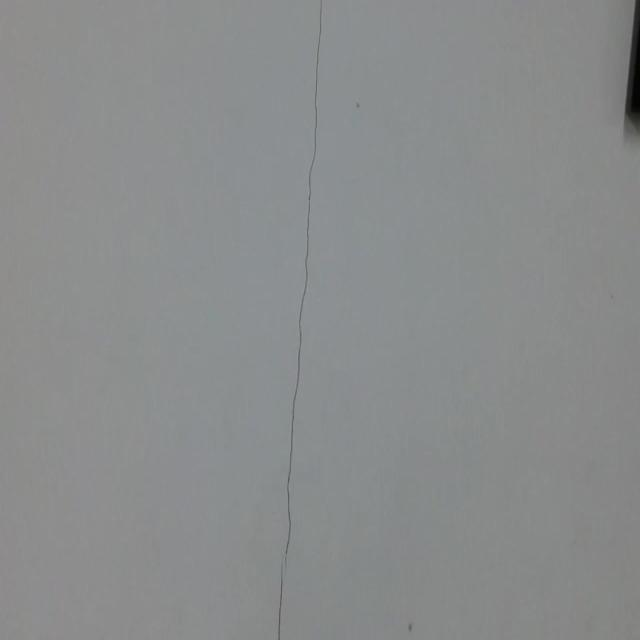Crack: (266, 0, 332, 640)
